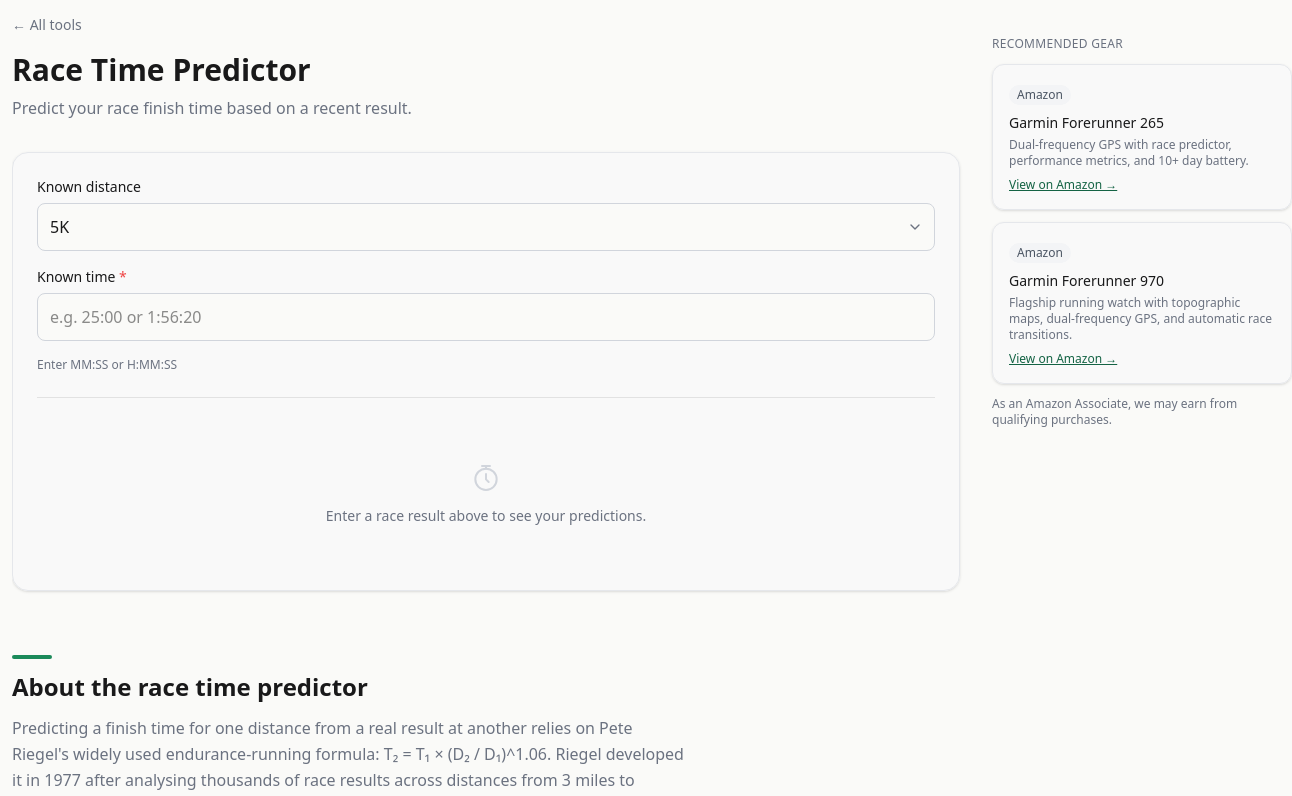
RacePredictor page › shows the results table when a valid time is entered
Type "25:00" into the field labelled "Known time *" at (486,317), box x1=37 y1=293 x2=935 y2=341
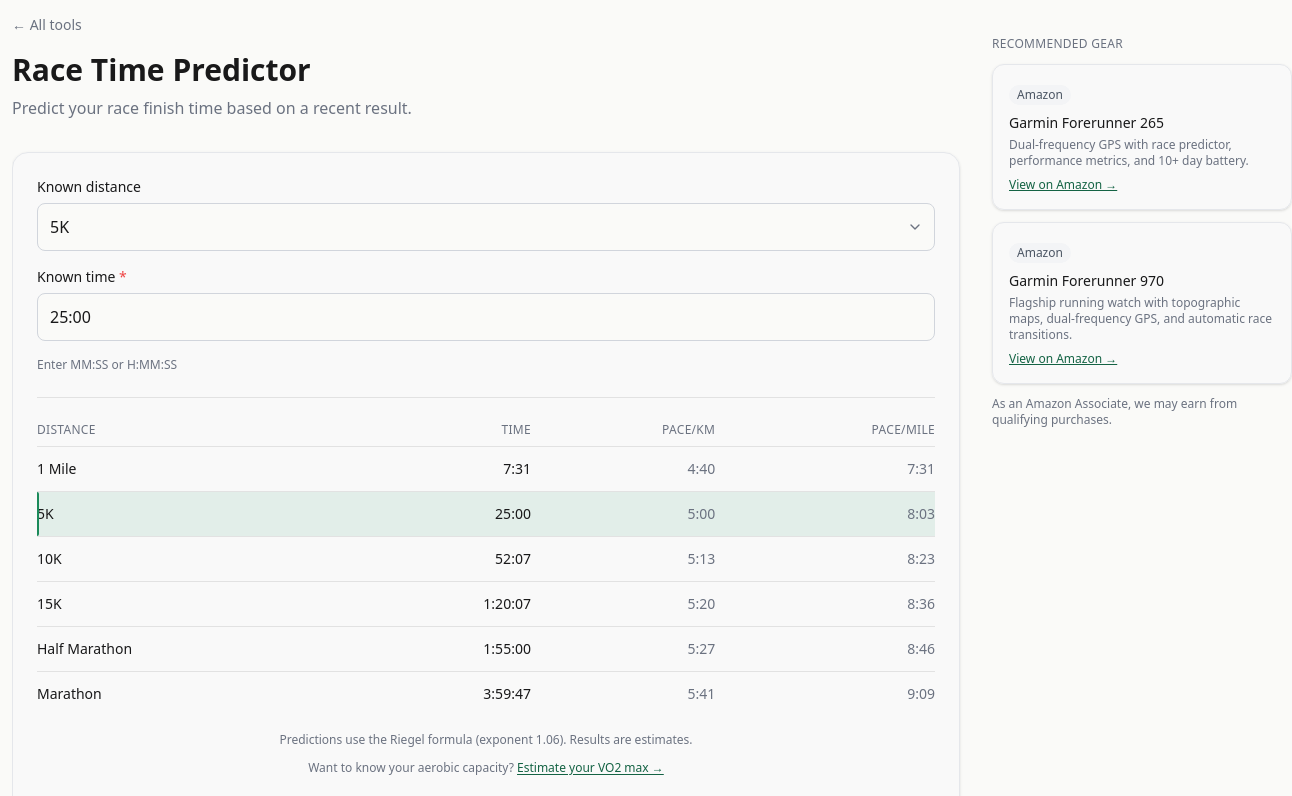
Result: the table is shown at x1=37 y1=422 x2=935 y2=716
